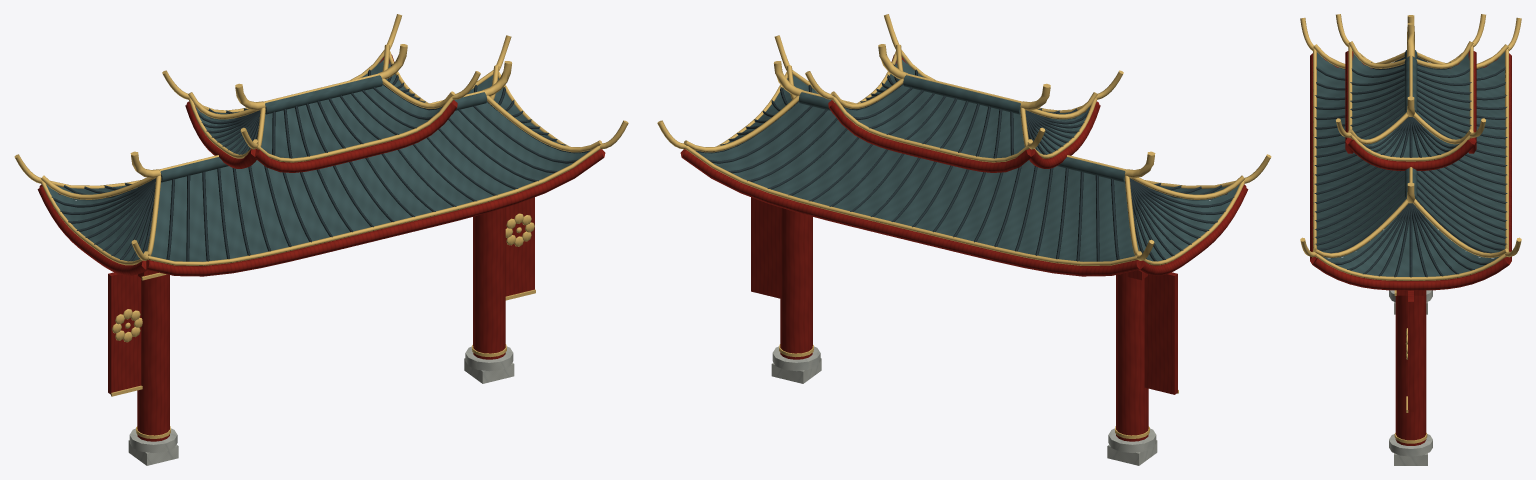
File: gate.glb
3 views of the same model, side by side, from view 1: azimuth 30°, elevation 25°; view 2: azimuth 150°, elevation 25°; view 3: azimuth 270°, elevation 25° (orthographic). The views are drawn at different scales.
Visible parts, largest first — view 1: gate_Temple_Charcoal_Glazed_Tiles, gate_Temple_Red_Timber, gate_Temple_Antique_Gold, gate_Temple_Dark_Ridge_and_Iron, gate_Temple_Worn_Pale_Stone; view 2: gate_Temple_Charcoal_Glazed_Tiles, gate_Temple_Red_Timber, gate_Temple_Antique_Gold, gate_Temple_Dark_Ridge_and_Iron, gate_Temple_Worn_Pale_Stone; view 3: gate_Temple_Charcoal_Glazed_Tiles, gate_Temple_Dark_Ridge_and_Iron, gate_Temple_Red_Timber, gate_Temple_Antique_Gold, gate_Temple_Worn_Pale_Stone.
Part boxes in pixels (x1=…): gate_Temple_Charcoal_Glazed_Tiles: x1=46, y1=57, x2=590, y2=261; gate_Temple_Red_Timber: x1=37, y1=54, x2=605, y2=441; gate_Temple_Antique_Gold: x1=14, y1=14, x2=628, y2=438; gate_Temple_Dark_Ridge_and_Iron: x1=51, y1=64, x2=589, y2=261; gate_Temple_Worn_Pale_Stone: x1=128, y1=346, x2=514, y2=465; gate_Temple_Charcoal_Glazed_Tiles: x1=695, y1=57, x2=1239, y2=261; gate_Temple_Red_Timber: x1=680, y1=54, x2=1248, y2=441; gate_Temple_Antique_Gold: x1=657, y1=14, x2=1271, y2=438; gate_Temple_Dark_Ridge_and_Iron: x1=696, y1=64, x2=1234, y2=261; gate_Temple_Worn_Pale_Stone: x1=771, y1=346, x2=1157, y2=465; gate_Temple_Charcoal_Glazed_Tiles: x1=1316, y1=50, x2=1505, y2=276; gate_Temple_Dark_Ridge_and_Iron: x1=1314, y1=55, x2=1507, y2=277; gate_Temple_Red_Timber: x1=1310, y1=51, x2=1511, y2=445; gate_Temple_Antique_Gold: x1=1300, y1=14, x2=1521, y2=443; gate_Temple_Worn_Pale_Stone: x1=1389, y1=290, x2=1432, y2=465.
Bounding box in the file's own units: 10.05 × 6.76 × 4.21.
Materials: 5 (3 with a texture image).
